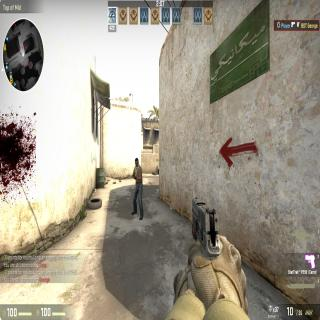T-Body: (132, 157, 142, 220)
T-Head: (134, 157, 138, 167)
